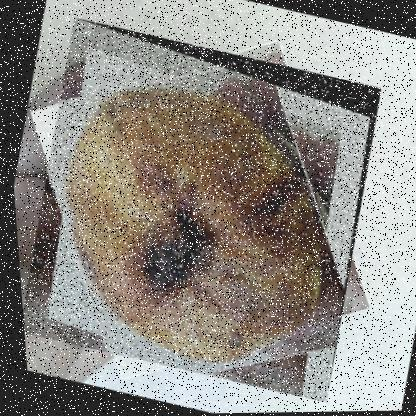guava_rotten: (1, 12, 400, 407)
